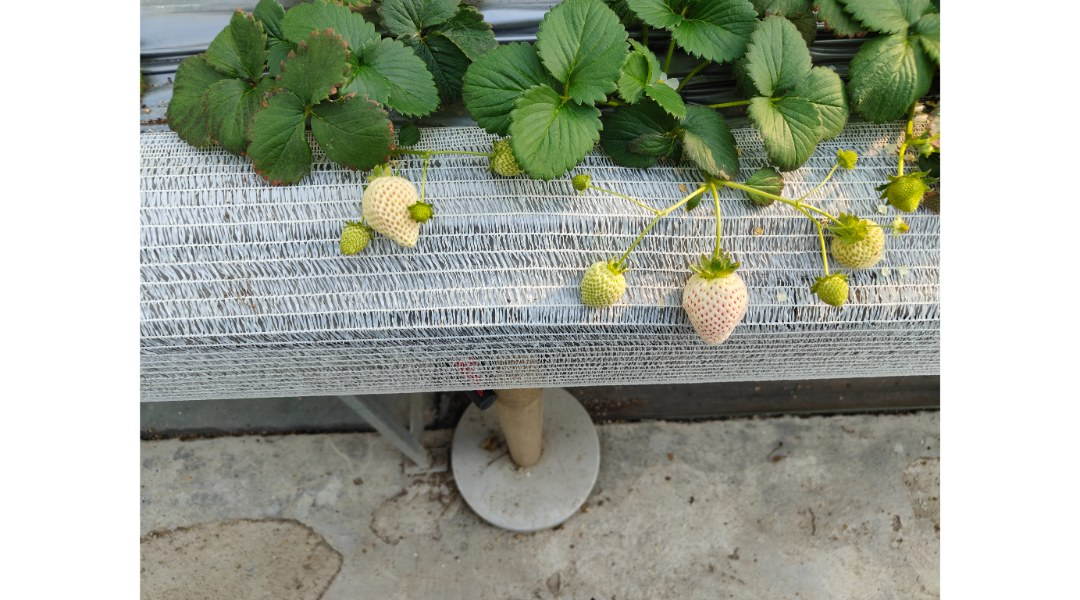berry: (355, 158, 430, 261), (677, 247, 749, 348), (579, 256, 626, 312), (874, 174, 938, 214), (486, 131, 525, 186), (809, 270, 856, 310), (336, 213, 371, 261), (830, 142, 859, 174), (406, 195, 433, 222), (573, 169, 588, 201)
strain: (719, 173, 790, 204), (596, 183, 655, 214), (618, 220, 656, 262), (662, 183, 707, 214), (803, 167, 835, 199), (707, 192, 726, 243), (805, 204, 842, 225), (813, 222, 830, 264), (893, 142, 910, 177)
